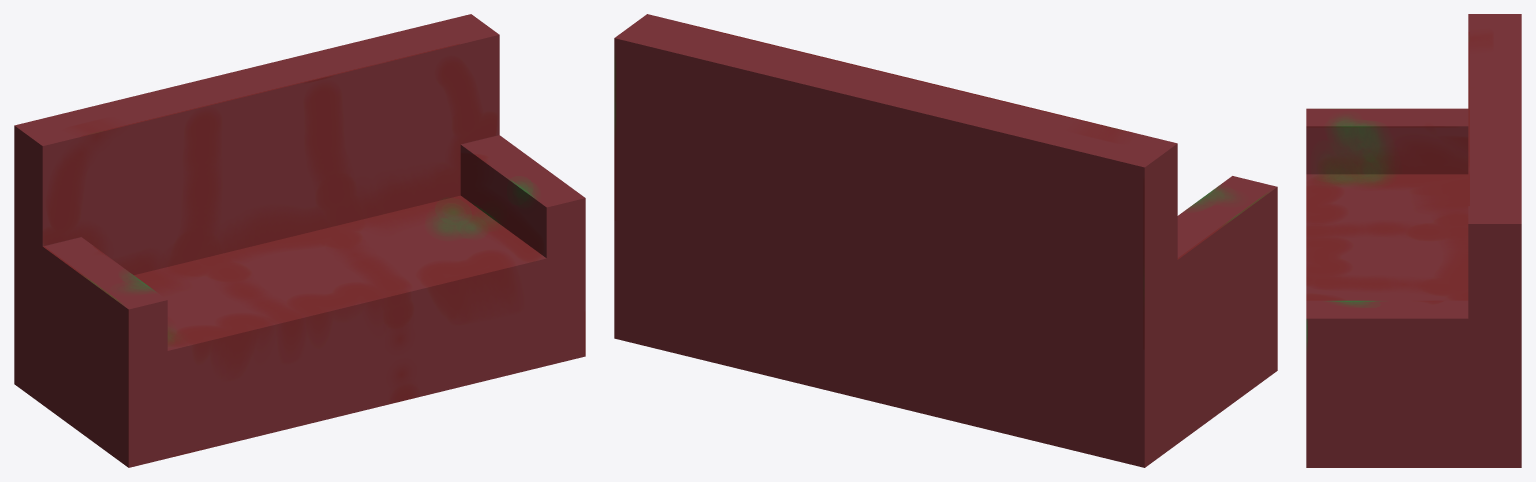
File: sofa.fbx
3 renders of one model, left to right at view 1: azimuth 30°, elevation 25°; view 2: azimuth 150°, elevation 25°; view 3: azimuth 270°, elevation 25°, orthographic. The views are drawn at different scales.
Parts seen in each view (by area): view 1: Cube; view 2: Cube; view 3: Cube.
Boxes of the visible parts, left/top/right/bottom form: Cube: left=14, top=14, right=585, bottom=467; Cube: left=614, top=14, right=1277, bottom=467; Cube: left=1306, top=14, right=1521, bottom=467.
Bounding box in the file's own units: 613 × 332 × 266.
